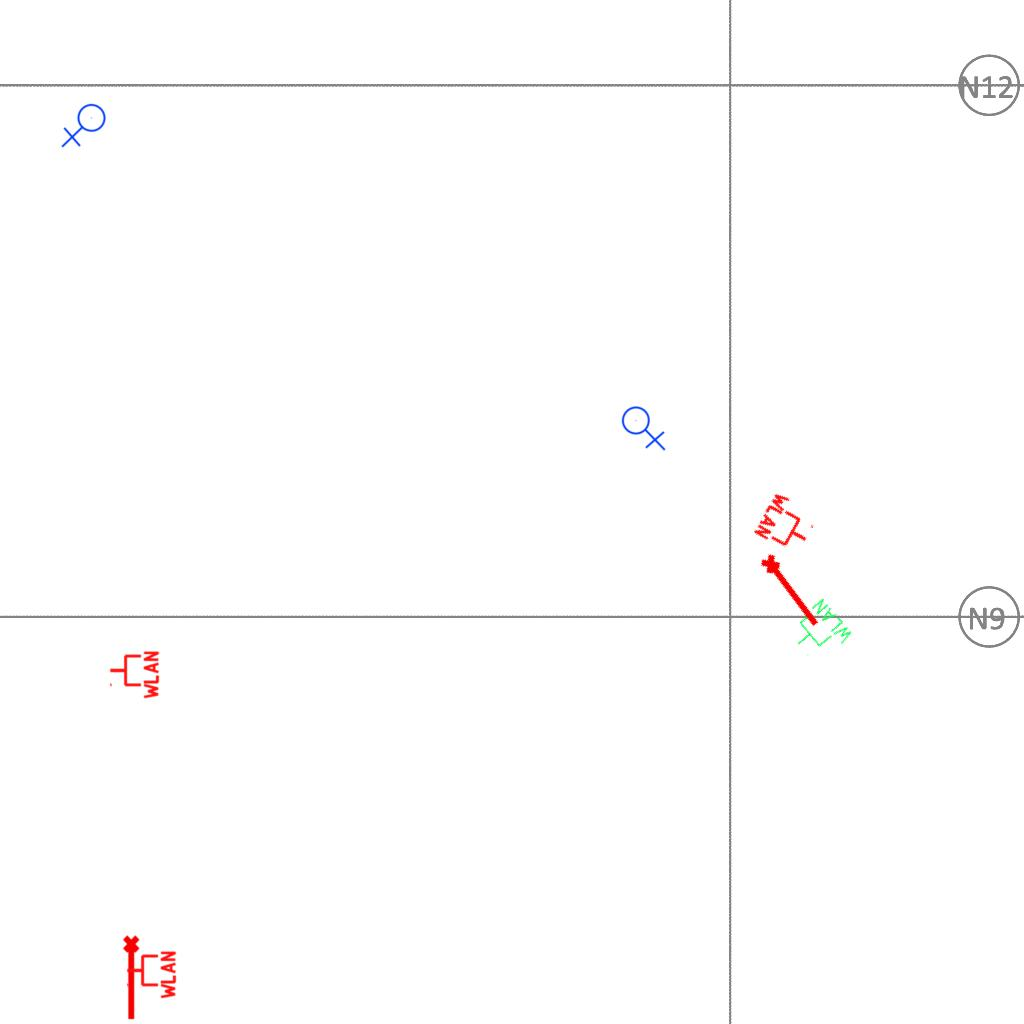ASR_Ansaugoeffnung: (756, 548, 828, 633), (121, 934, 144, 1022)
Elektroanschluss_allgemein_230V_Geraeteanschlussdose_230V: (61, 103, 110, 150), (621, 402, 668, 451)
WLAN: (783, 595, 857, 669), (751, 488, 823, 560), (108, 649, 160, 701), (125, 949, 177, 1001)
